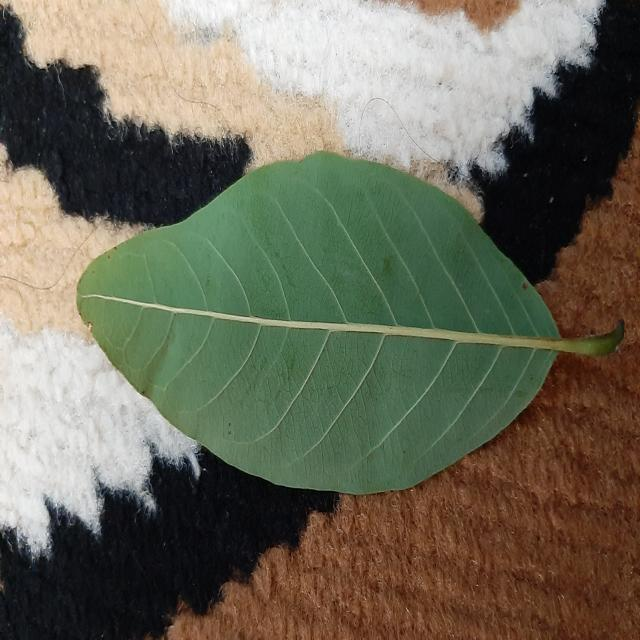leaf: (74, 149, 623, 496)
